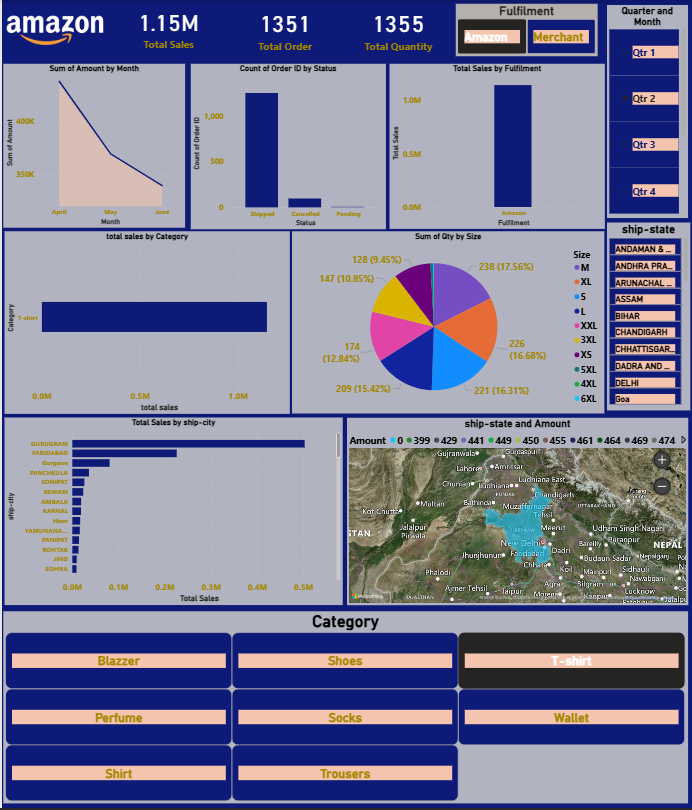

This screenshot's page, from the dashboard's own definition file:
{"tool":"powerbi","page":{"name":"Page 1","canvas":[1450,1700],"ordinal":0},"visuals":[{"type":"image","box":[4.3,5.7,215.7,130],"z":0},{"type":"card","fields":{"Values":["Sum(Amazon_Sale_Report_Cleaned.Amount)"]},"box":[247.1,0,207.1,112.9],"z":1000},{"type":"card","fields":{"Values":["CountNonNull(Amazon_Sale_Report_Cleaned.Order ID)"]},"box":[471.7,1.7,250,113.3],"z":2000},{"type":"card","fields":{"Values":["Sum(Amazon_Sale_Report_Cleaned.Qty)"]},"box":[728.3,1.7,211.7,113.3],"z":3000},{"type":"lineChart","fields":{"Category":["Amazon_Sale_Report_Cleaned.Date.Variation.Date Hierarchy.Month"],"Y":["Sum(Amazon_Sale_Report_Cleaned.Amount)"]},"box":[3.8,135,382.5,345],"z":4000},{"type":"clusteredColumnChart","fields":{"Y":["CountNonNull(Amazon_Sale_Report_Cleaned.Order ID)"],"Category":["Amazon_Sale_Report_Cleaned.Status"]},"box":[396,134,410,348],"z":5000},{"type":"barChart","fields":{"Y":["Sum(Amazon_Sale_Report_Cleaned.Amount)"],"Category":["Amazon_Sale_Report_Cleaned.Category"]},"box":[4.3,485.7,600,384.3],"z":6000},{"type":"pieChart","fields":{"Category":["Amazon_Sale_Report_Cleaned.Size"],"Y":["Sum(Amazon_Sale_Report_Cleaned.Qty)"]},"box":[610,487.1,657.1,382.9],"z":7000},{"type":"columnChart","fields":{"Category":["Amazon_Sale_Report_Cleaned.Fulfilment"],"Y":["Sum(Amazon_Sale_Report_Cleaned.Amount)"]},"box":[814.3,134.3,452.9,347.1],"z":8000},{"type":"barChart","fields":{"Category":["Amazon_Sale_Report_Cleaned.ship-city"],"Y":["Sum(Amazon_Sale_Report_Cleaned.Amount)"]},"box":[4.3,877.1,711.4,394.3],"z":9000},{"type":"listSlicer","fields":{"Values":["Amazon_Sale_Report_Cleaned.Date.Variation.Date Hierarchy.Quarter","Amazon_Sale_Report_Cleaned.Date.Variation.Date Hierarchy.Month","Amazon_Sale_Report_Cleaned.Date.Variation.Date Hierarchy.Day"]},"box":[1273.3,10,170,448.3],"z":10000},{"type":"advancedSlicerVisual","fields":{"Values":["Amazon_Sale_Report_Cleaned.Category"]},"box":[3,1286,1440,404],"z":11000},{"type":"advancedSlicerVisual","fields":{"Values":["Amazon_Sale_Report_Cleaned.ship-state"]},"box":[1271.7,468.3,175,395],"z":12000},{"type":"advancedSlicerVisual","fields":{"Values":["Amazon_Sale_Report_Cleaned.Fulfilment"]},"box":[953.3,8.3,298.3,110],"z":13000},{"type":"filledMap","fields":{"Category":["Amazon_Sale_Report_Cleaned.ship-state","Amazon_Sale_Report_Cleaned.ship-city","Amazon_Sale_Report_Cleaned.ship-country"],"Series":["Amazon_Sale_Report_Cleaned.Amount"]},"box":[725,877.5,717.5,395],"z":13001}]}

Visuals, with their boxes in screenshot pixels (x1, y1, x2, y2), scaled from the page's 1450x1700 canvas onto the 692x810 screenshot:
image: x1=2 y1=3 x2=105 y2=65
card - Sum(Amazon_Sale_Report_Cleaned.Amount): x1=118 y1=0 x2=217 y2=54
card - CountNonNull(Amazon_Sale_Report_Cleaned.Order ID): x1=225 y1=1 x2=344 y2=55
card - Sum(Amazon_Sale_Report_Cleaned.Qty): x1=348 y1=1 x2=449 y2=55
lineChart - Amazon_Sale_Report_Cleaned.Date.Variation.Date Hierarchy.Month x Sum(Amazon_Sale_Report_Cleaned.Amount): x1=2 y1=64 x2=184 y2=229
clusteredColumnChart - CountNonNull(Amazon_Sale_Report_Cleaned.Order ID) x Amazon_Sale_Report_Cleaned.Status: x1=189 y1=64 x2=385 y2=230
barChart - Sum(Amazon_Sale_Report_Cleaned.Amount) x Amazon_Sale_Report_Cleaned.Category: x1=2 y1=231 x2=288 y2=415
pieChart - Amazon_Sale_Report_Cleaned.Size x Sum(Amazon_Sale_Report_Cleaned.Qty): x1=291 y1=232 x2=605 y2=415
columnChart - Amazon_Sale_Report_Cleaned.Fulfilment x Sum(Amazon_Sale_Report_Cleaned.Amount): x1=389 y1=64 x2=605 y2=229
barChart - Amazon_Sale_Report_Cleaned.ship-city x Sum(Amazon_Sale_Report_Cleaned.Amount): x1=2 y1=418 x2=342 y2=606
listSlicer - Amazon_Sale_Report_Cleaned.Date.Variation.Date Hierarchy.Quarter x Amazon_Sale_Report_Cleaned.Date.Variation.Date Hierarchy.Month: x1=608 y1=5 x2=689 y2=218
advancedSlicerVisual - Amazon_Sale_Report_Cleaned.Category: x1=1 y1=613 x2=689 y2=805
advancedSlicerVisual - Amazon_Sale_Report_Cleaned.ship-state: x1=607 y1=223 x2=690 y2=411
advancedSlicerVisual - Amazon_Sale_Report_Cleaned.Fulfilment: x1=455 y1=4 x2=597 y2=56
filledMap - Amazon_Sale_Report_Cleaned.ship-state x Amazon_Sale_Report_Cleaned.ship-city: x1=346 y1=418 x2=688 y2=606
